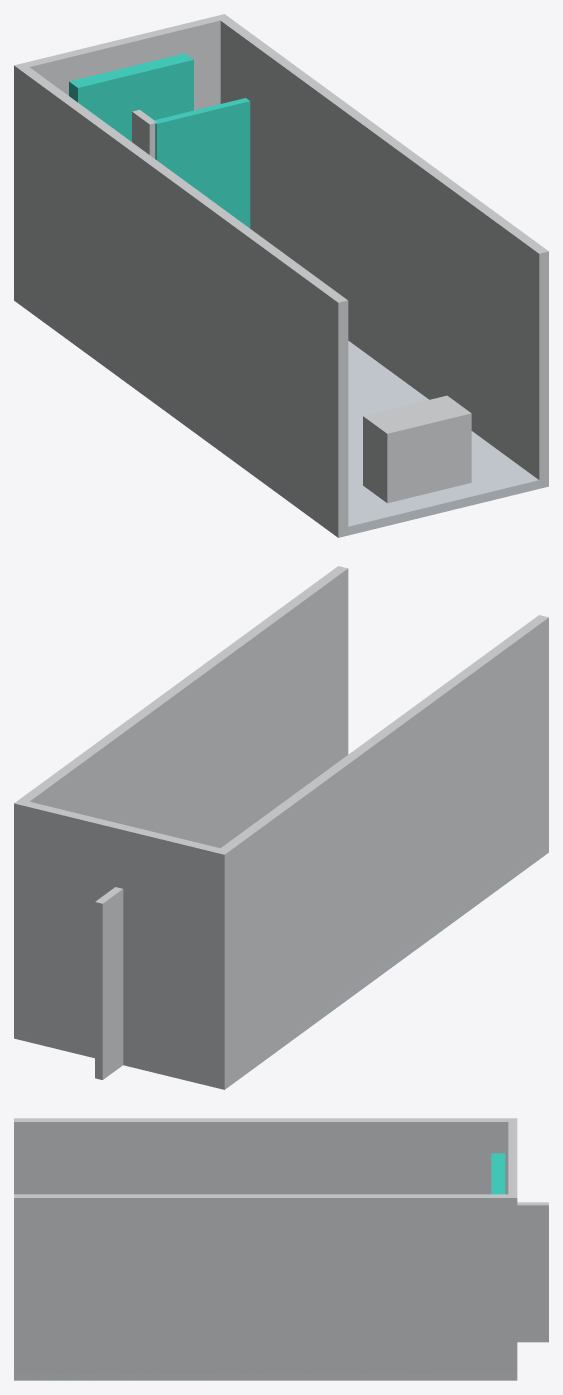
3 views of the same model, one above another, from view 1: azimuth 30°, elevation 25°; view 2: azimuth 150°, elevation 25°; view 3: azimuth 270°, elevation 25° (orthographic). The views are drawn at different scales.
Visible parts, largest first — view 1: Exhibition Booth Concept; view 2: Exhibition Booth Concept; view 3: Exhibition Booth Concept.
Part boxes in pixels (x1,y1,x2,y2): Exhibition Booth Concept: [14, 14, 548, 537]; Exhibition Booth Concept: [14, 566, 548, 1089]; Exhibition Booth Concept: [14, 1118, 548, 1380].
Size of the model in its own units: 3 by 3.2 by 8.51.
